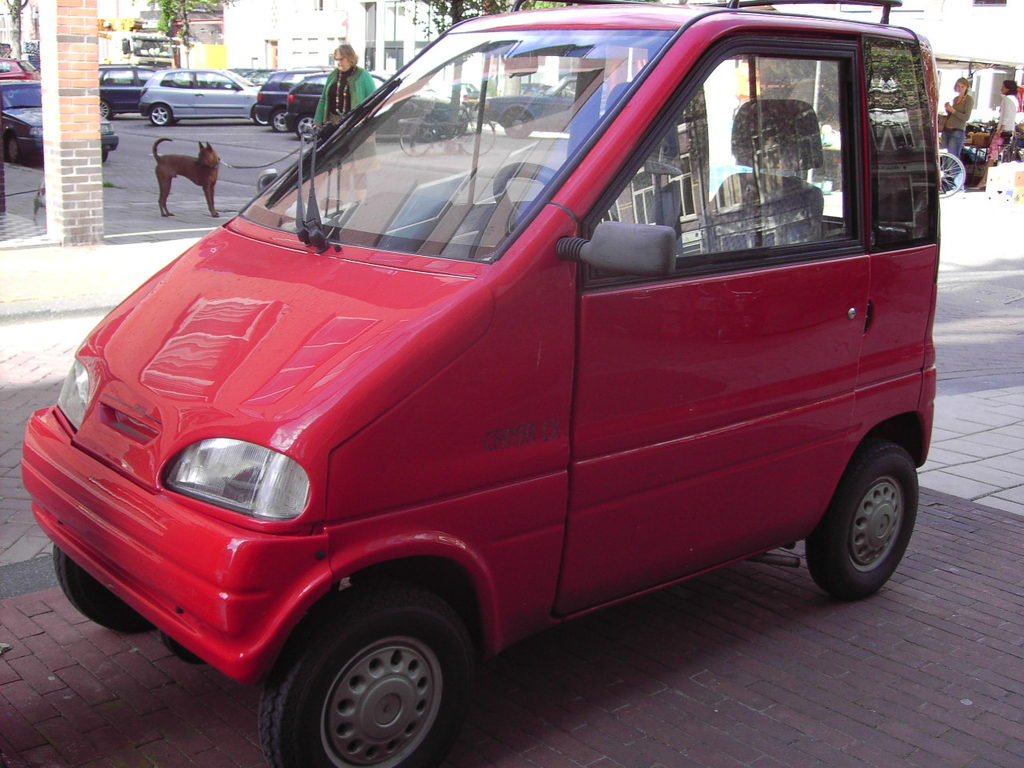Car: (39, 22, 958, 768), (280, 70, 466, 134), (0, 75, 118, 173), (139, 67, 262, 127), (252, 63, 331, 135), (96, 63, 163, 116), (0, 57, 38, 84)
